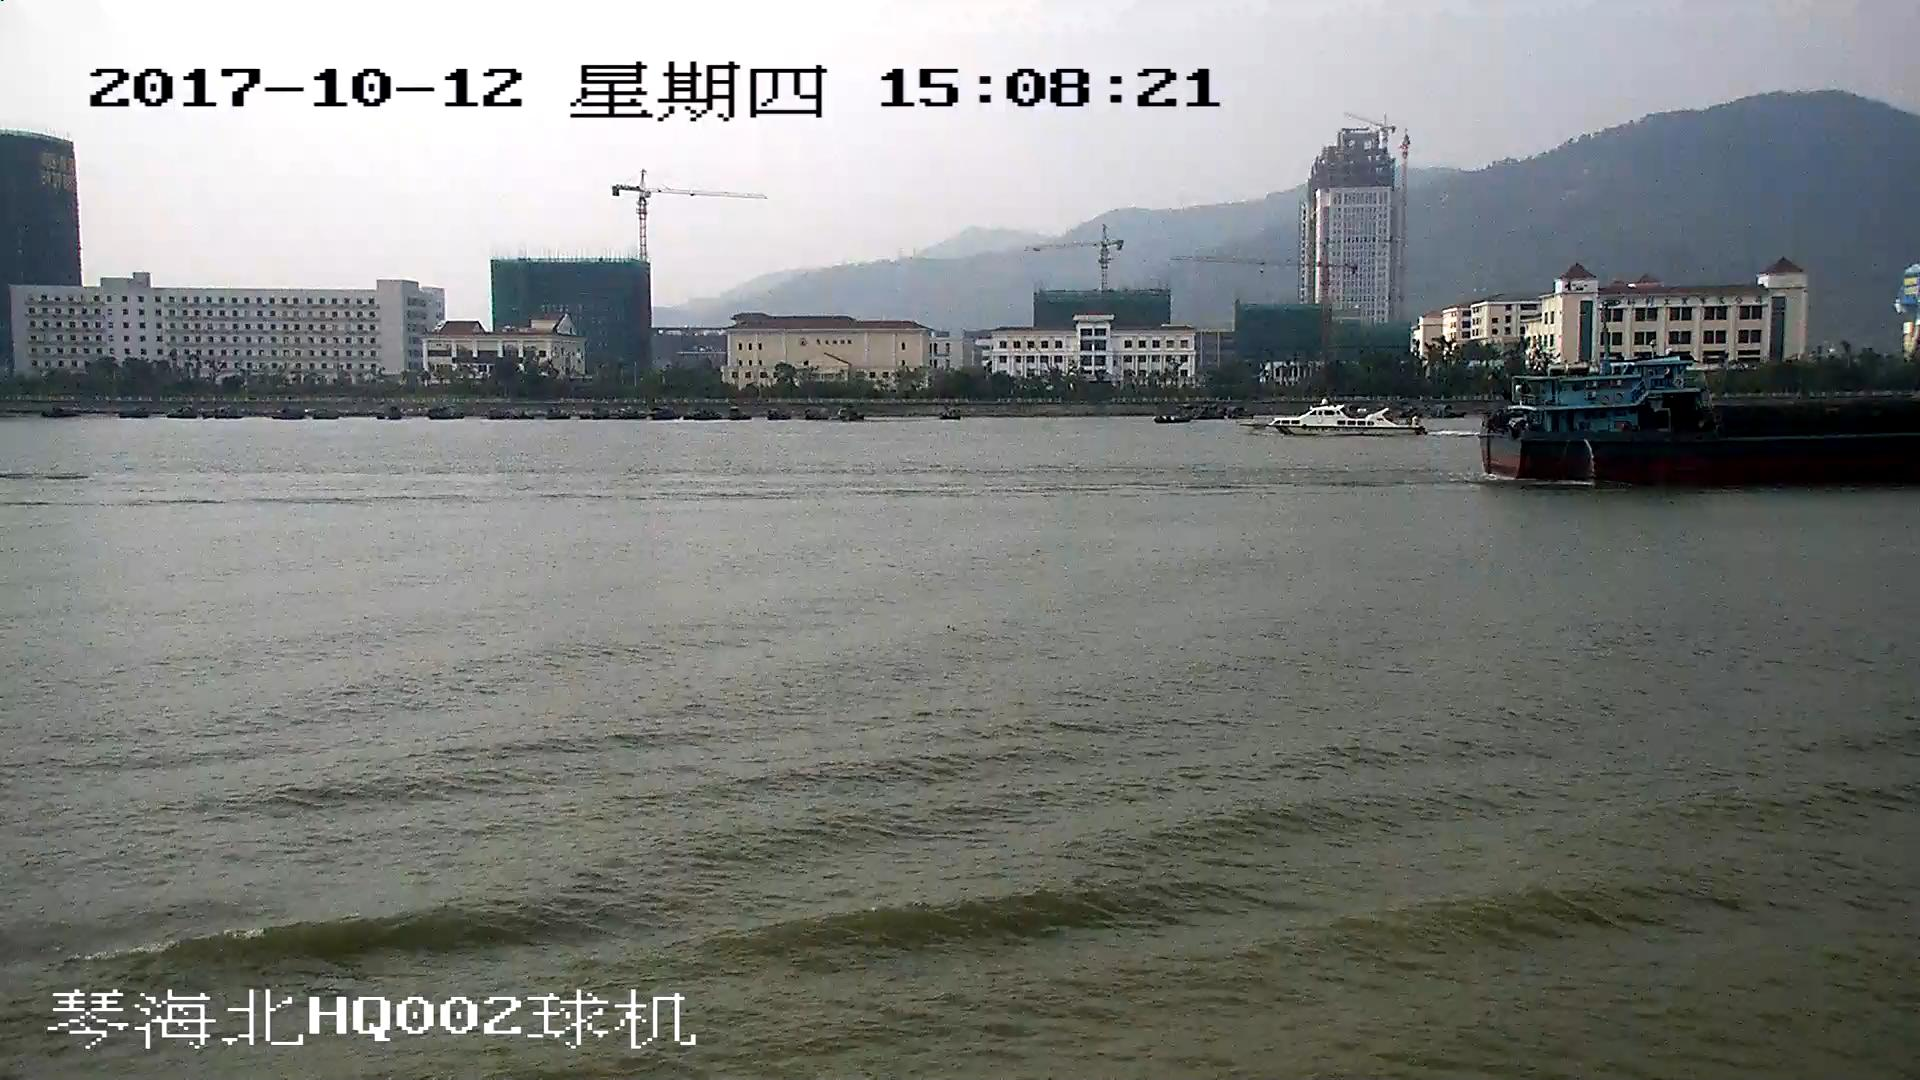passenger ship: (1270, 400, 1414, 435)
